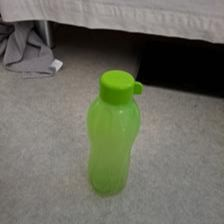bottle: (83, 67, 145, 195)
